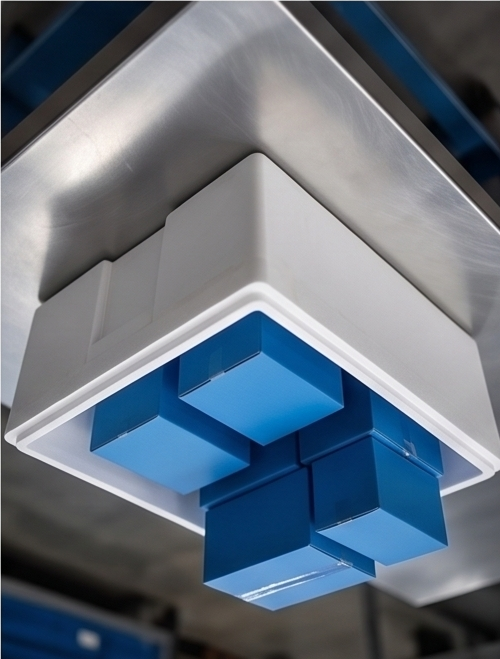blue_box: (205, 465, 376, 611), (179, 308, 347, 447), (91, 356, 252, 499), (312, 436, 447, 568), (299, 370, 444, 478), (200, 432, 302, 511)
container_box: (4, 151, 500, 564)
